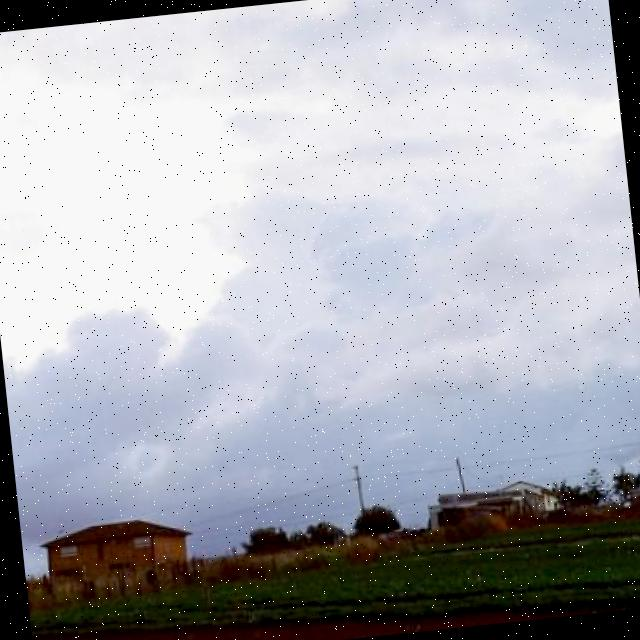Sc: (1, 1, 640, 469)
